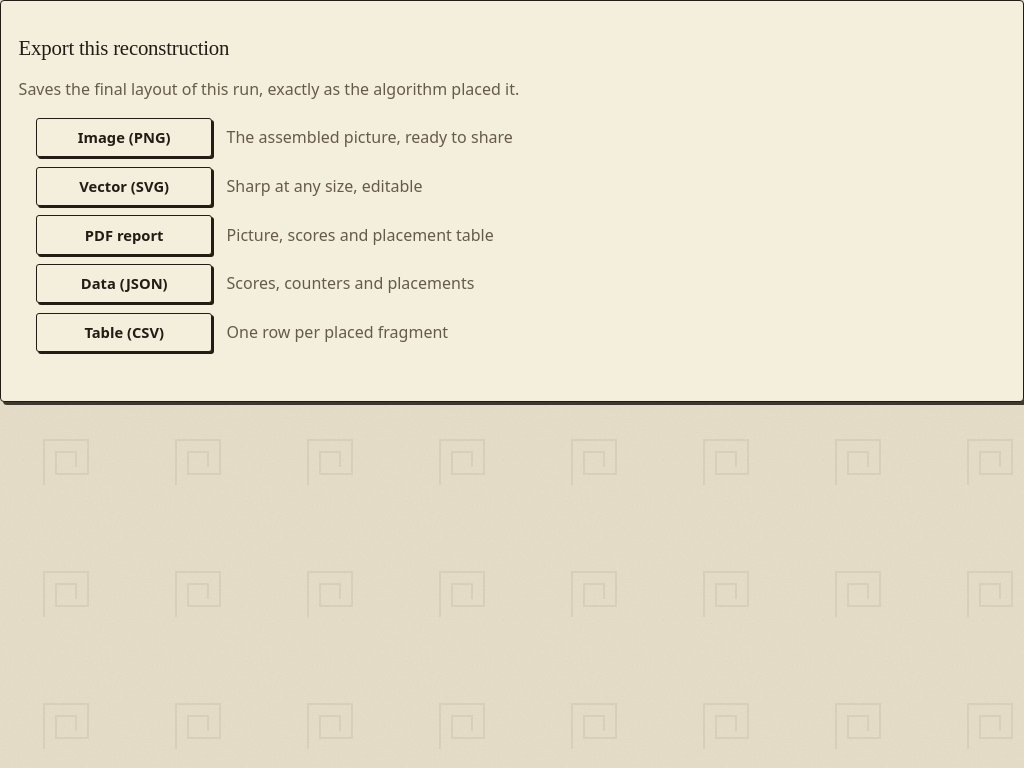
ExportMenu › shows an error when the export fails
The image size is (1024, 768).
Click the button "Image (PNG)".
click(124, 137)  # box [36, 118, 212, 157]
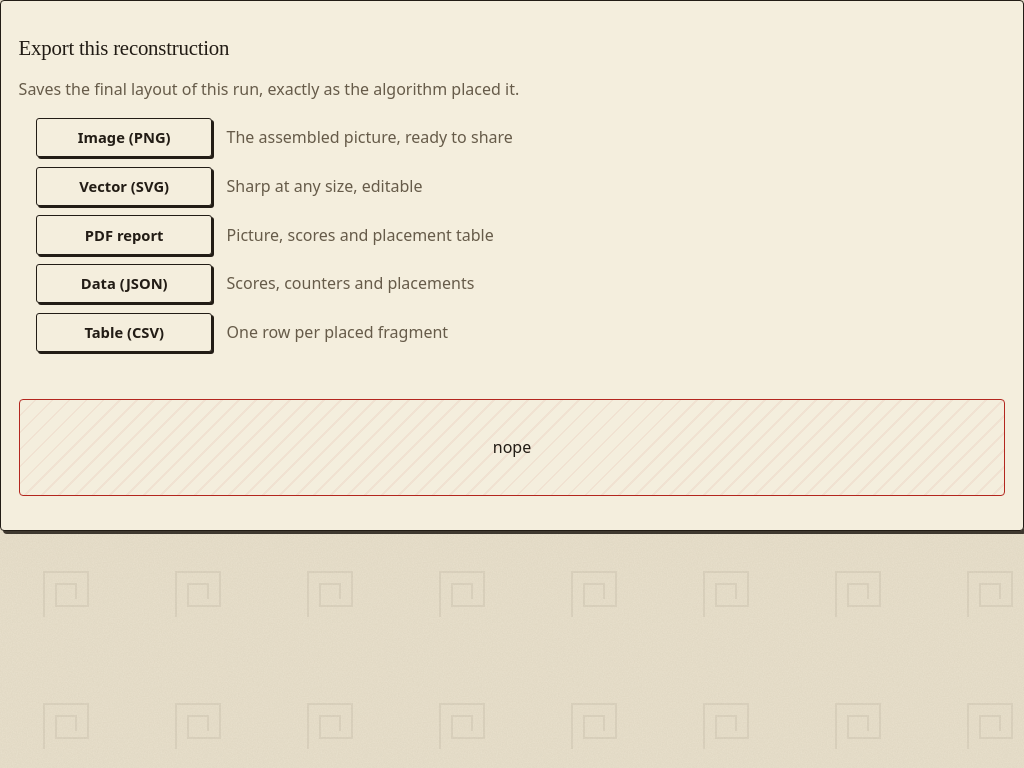
Now the message "nope" is shown, box [19, 399, 1005, 496]
